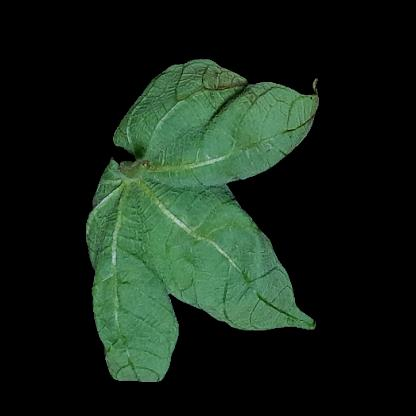curl_stage2: (140, 97, 280, 161), (162, 204, 248, 290), (103, 198, 153, 338), (255, 265, 287, 331), (116, 342, 166, 382)
